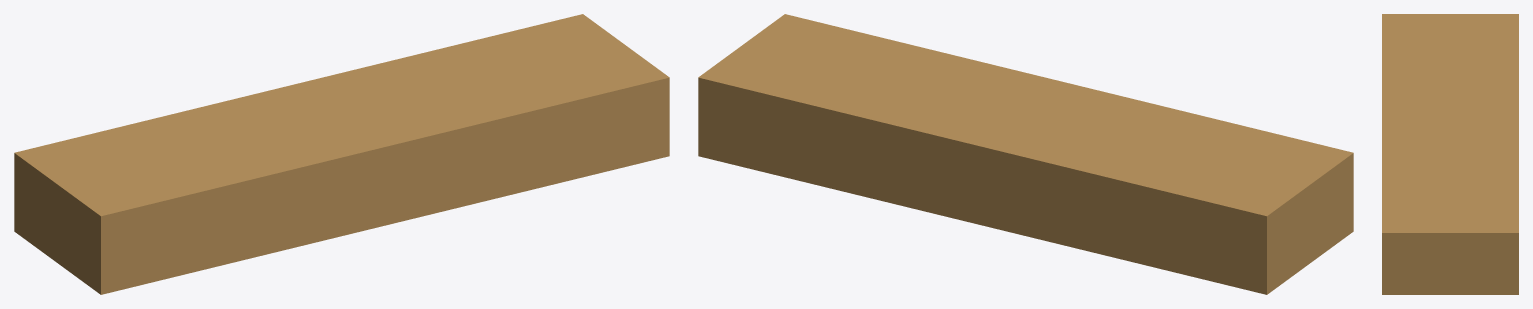
3 views of the same model, side by side, from view 1: azimuth 30°, elevation 25°; view 2: azimuth 150°, elevation 25°; view 3: azimuth 270°, elevation 25° (orthographic). The views are drawn at different scales.
Visible parts, largest first — view 1: RUN-013-S00-NOG-01; view 2: RUN-013-S00-NOG-01; view 3: RUN-013-S00-NOG-01.
Part boxes in pixels (<box>): RUN-013-S00-NOG-01: <box>14,14,669,294</box>; RUN-013-S00-NOG-01: <box>698,14,1353,294</box>; RUN-013-S00-NOG-01: <box>1382,14,1518,294</box>.
Bounding box in the file's own units: 0.3405 × 0.045 × 0.09.
